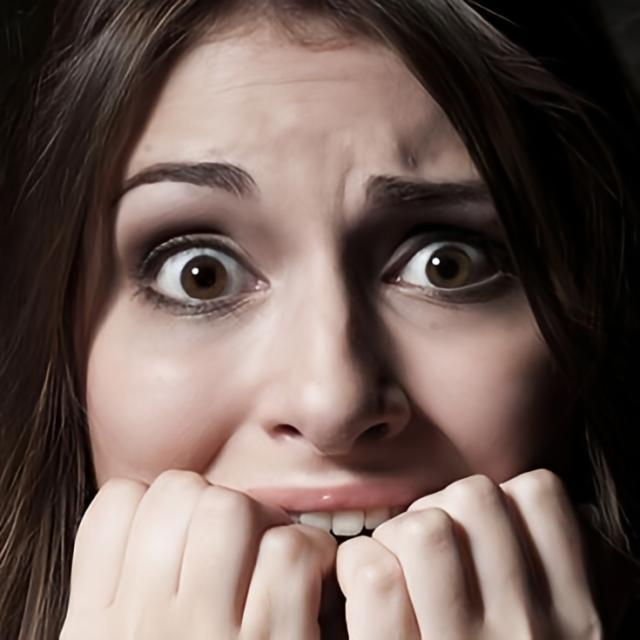fear: (83, 0, 572, 640)
